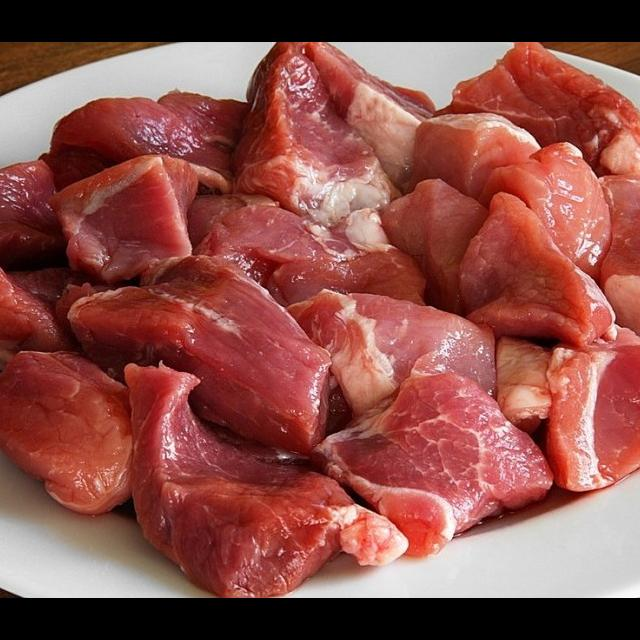beef: (42, 244, 380, 448), (107, 354, 370, 598), (334, 356, 550, 572), (22, 90, 252, 271), (0, 336, 191, 523), (234, 52, 391, 245), (442, 187, 597, 358), (447, 59, 640, 186), (544, 319, 640, 508), (0, 228, 74, 359)
